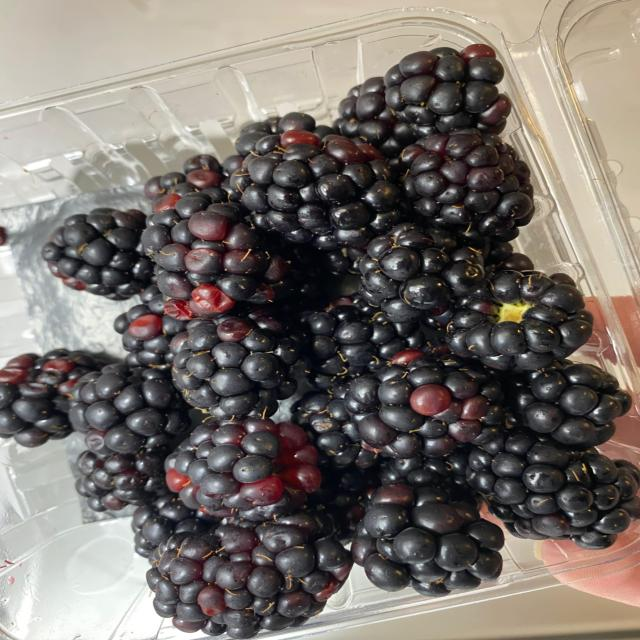blackberries: (34, 51, 617, 630)
